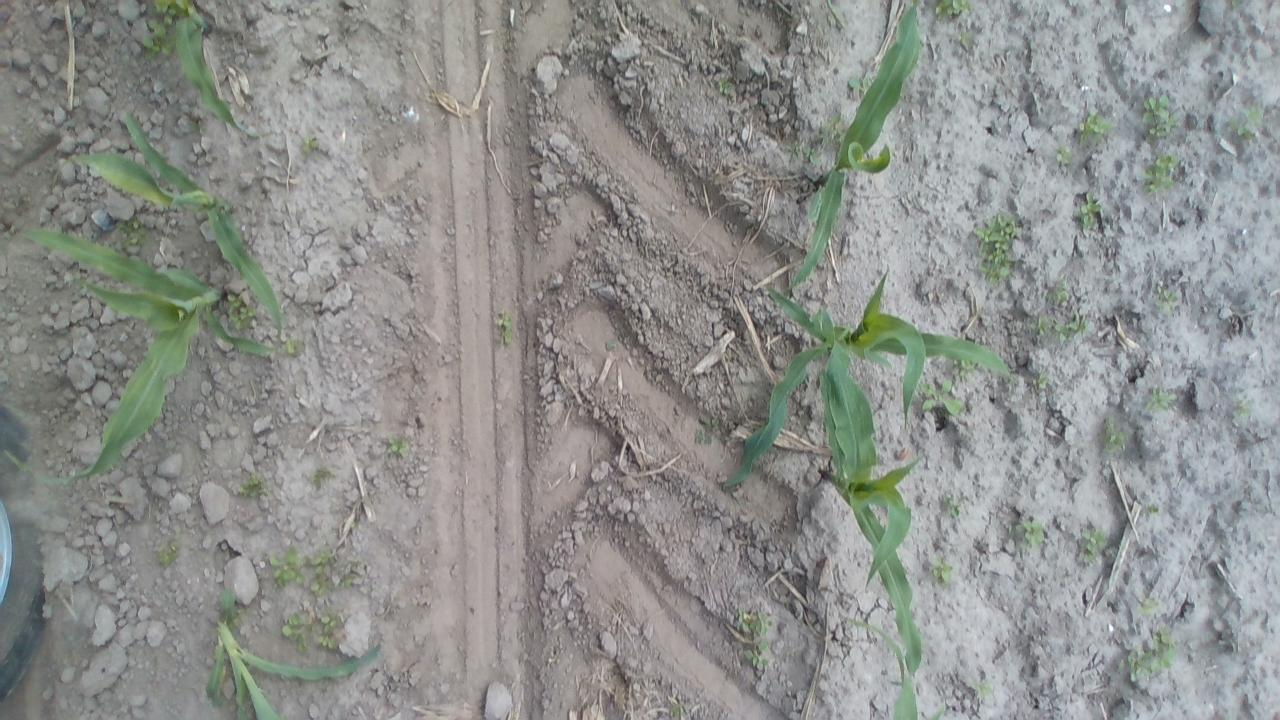Maize: (0, 214, 282, 488), (716, 267, 1016, 493), (55, 104, 290, 330), (806, 305, 930, 712), (778, 5, 928, 299), (198, 580, 388, 720), (164, 0, 272, 145), (834, 614, 934, 718)
Weeds: (974, 206, 1022, 286), (1121, 624, 1178, 684), (734, 604, 777, 678), (916, 374, 966, 417), (1139, 92, 1180, 142), (799, 116, 840, 160), (280, 606, 312, 656), (1140, 152, 1180, 192), (1076, 524, 1114, 566), (1094, 417, 1132, 458), (1070, 189, 1106, 232), (791, 126, 830, 165), (1074, 110, 1114, 147), (266, 548, 304, 586), (136, 21, 172, 61), (224, 293, 259, 334), (1230, 103, 1266, 142), (1010, 514, 1048, 548), (308, 546, 332, 597), (1050, 312, 1090, 342), (110, 220, 150, 250), (314, 607, 342, 649), (692, 411, 724, 447), (235, 471, 272, 501), (1145, 381, 1176, 416), (1152, 283, 1180, 316), (154, 539, 184, 568), (494, 309, 516, 347), (940, 490, 966, 522), (384, 434, 416, 459), (333, 560, 358, 592), (307, 464, 335, 492), (928, 556, 956, 584), (154, 0, 188, 23), (1046, 278, 1074, 304), (846, 70, 874, 96), (934, 0, 972, 19), (1052, 144, 1078, 170), (1136, 593, 1162, 619), (280, 334, 306, 359), (1230, 395, 1252, 424), (1030, 368, 1055, 393), (296, 134, 321, 158), (1029, 314, 1052, 339), (662, 701, 692, 720), (972, 678, 998, 699), (714, 74, 736, 97), (954, 28, 977, 48), (1140, 501, 1160, 521), (188, 116, 208, 136), (1226, 1, 1250, 12), (604, 340, 620, 356)
